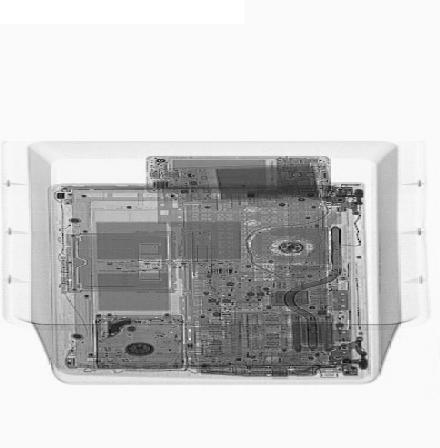Powerbank: (145, 163, 336, 201)
